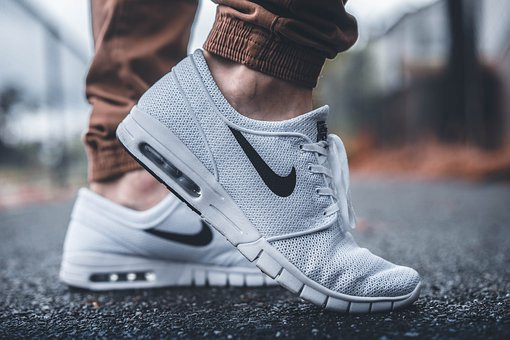nike: (232, 119, 300, 200)
